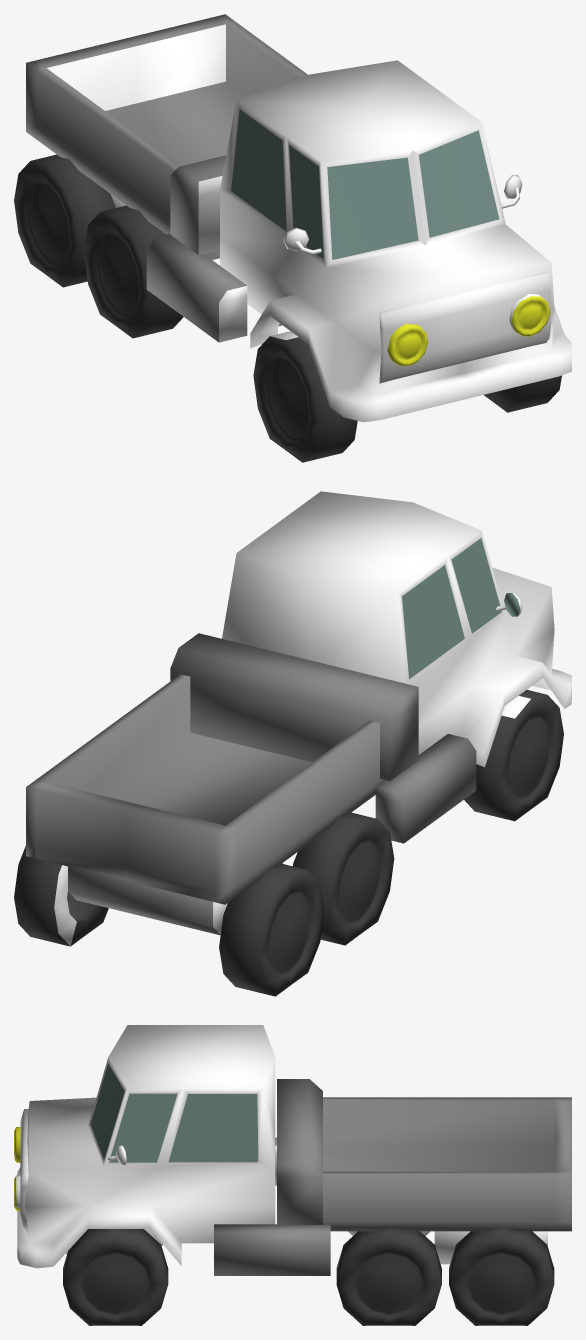
The model's file is smallTruckModel.glb.
3 renders of one model, top to bottom at view 1: azimuth 30°, elevation 25°; view 2: azimuth 150°, elevation 25°; view 3: azimuth 270°, elevation 25°, orthographic. The views are drawn at different scales.
Parts seen in each view (by area): view 1: GreenTruck; view 2: GreenTruck; view 3: GreenTruck.
Boxes of the visible parts, x1,y1,x2,y2 form: GreenTruck: (14,14,571,462); GreenTruck: (14,491,571,996); GreenTruck: (14,1025,571,1325).
Bounding box in the file's own units: 2.87 × 2.92 × 6.69.
